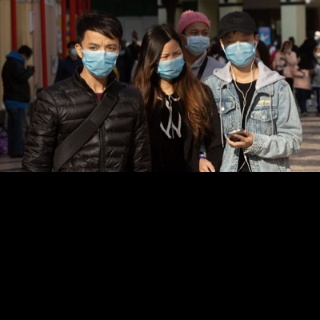with_mask: (79, 40, 120, 79), (225, 31, 256, 67), (155, 48, 185, 80), (184, 27, 211, 55)
